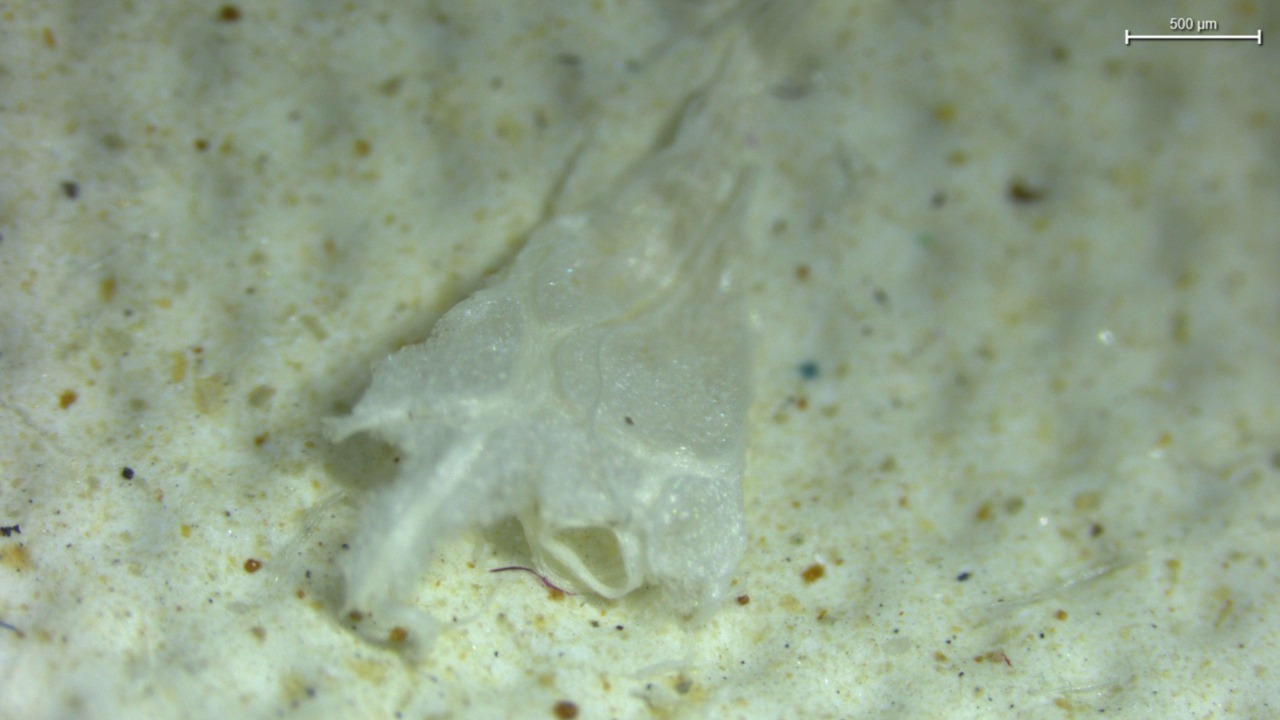microplastic_fragment: (327, 60, 765, 627)
